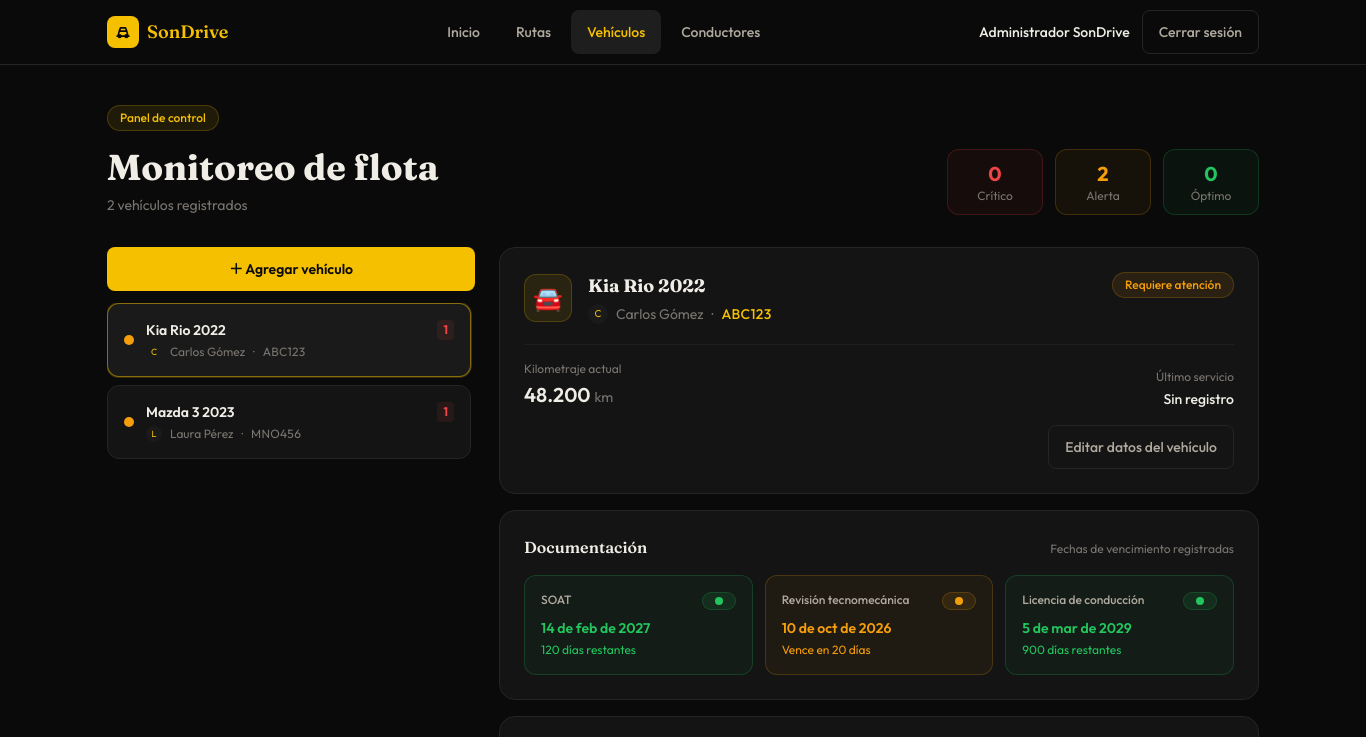
Test: PaginaVehiculos › edición de los datos del vehículo › mantiene seleccionado el vehículo editado aunque cambie de lugar en la lista
The image size is (1366, 737).
Click the button with aria-label "Editar datos del vehículo Kia Rio 2022 ABC123" at (1141, 447), box top-left (1048, 425), bottom-right (1234, 469)
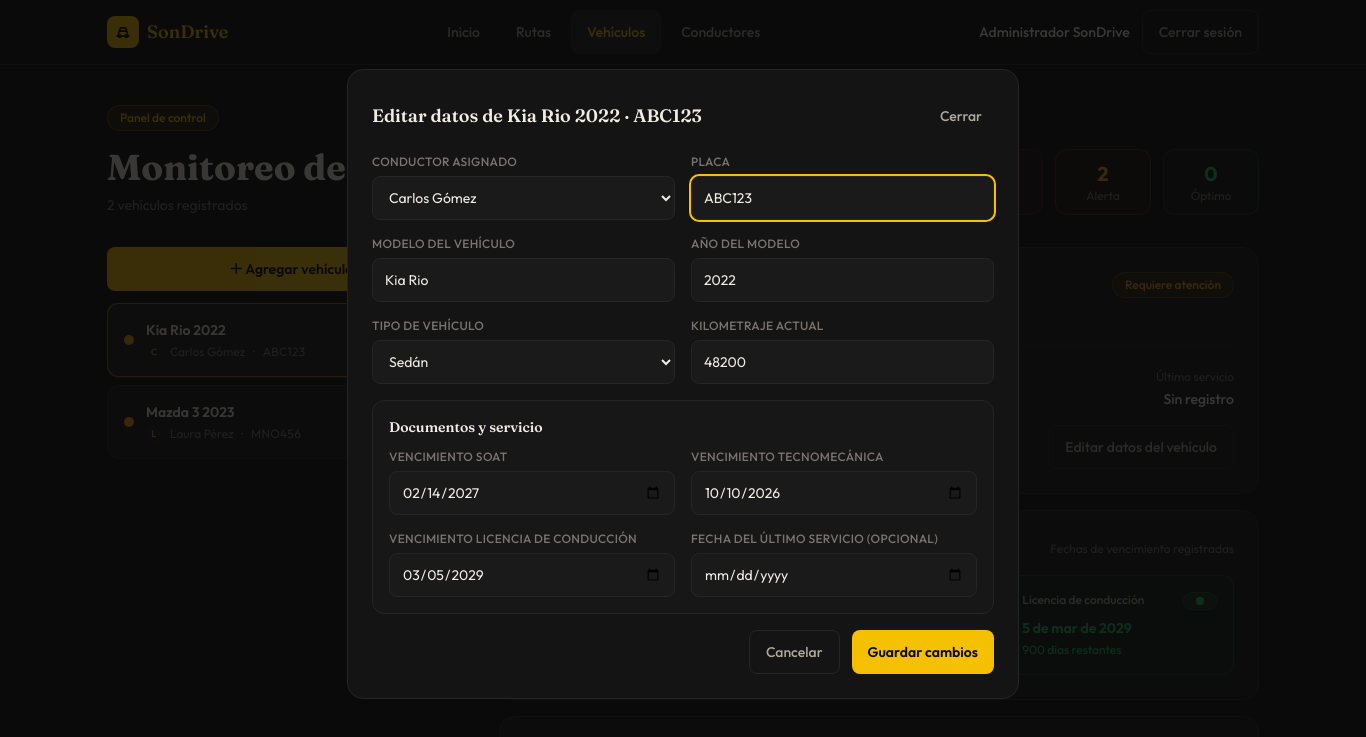
Check: the button "Guardar cambios" is enabled, box top-left (852, 630), bottom-right (994, 674)
Replace the text in the field labelled "Placa" with "ZZZ999" at (842, 198), box top-left (691, 176), bottom-right (994, 220)
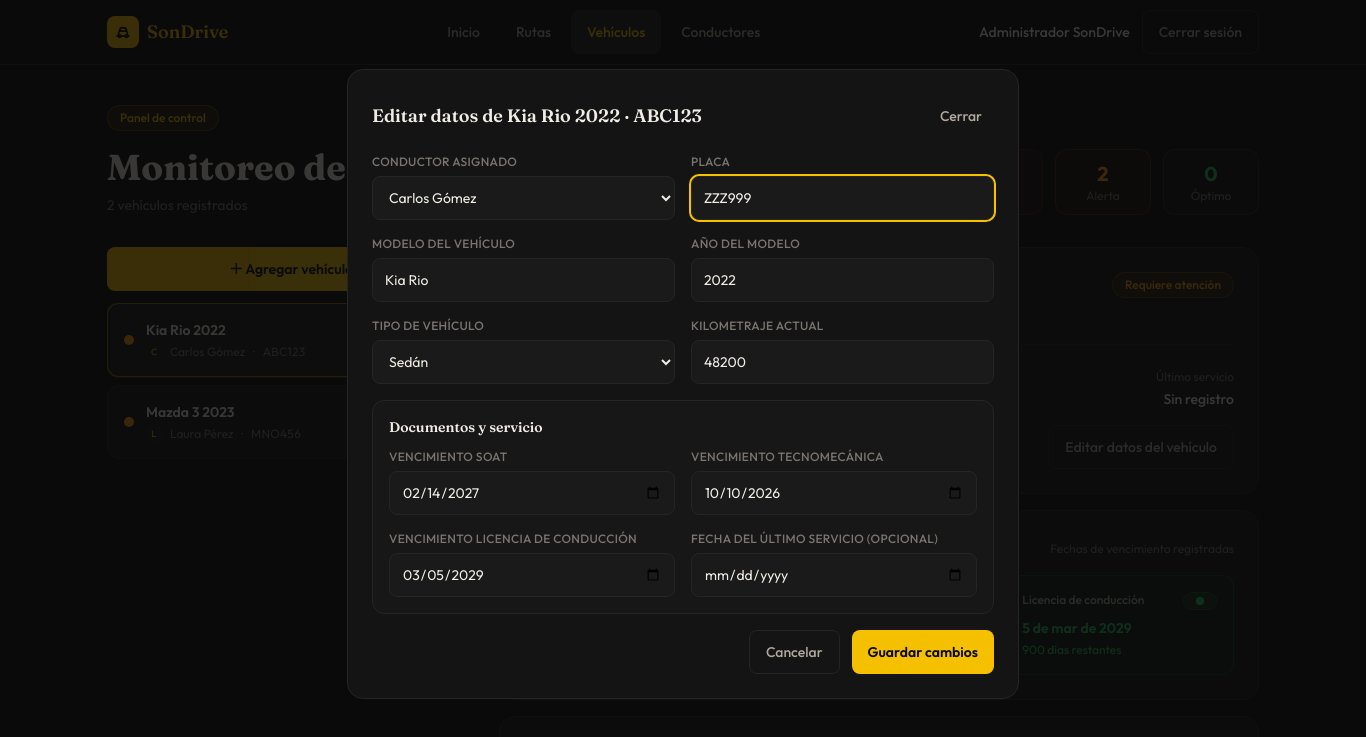
Click the button "Guardar cambios" at (923, 652), box top-left (852, 630), bottom-right (994, 674)
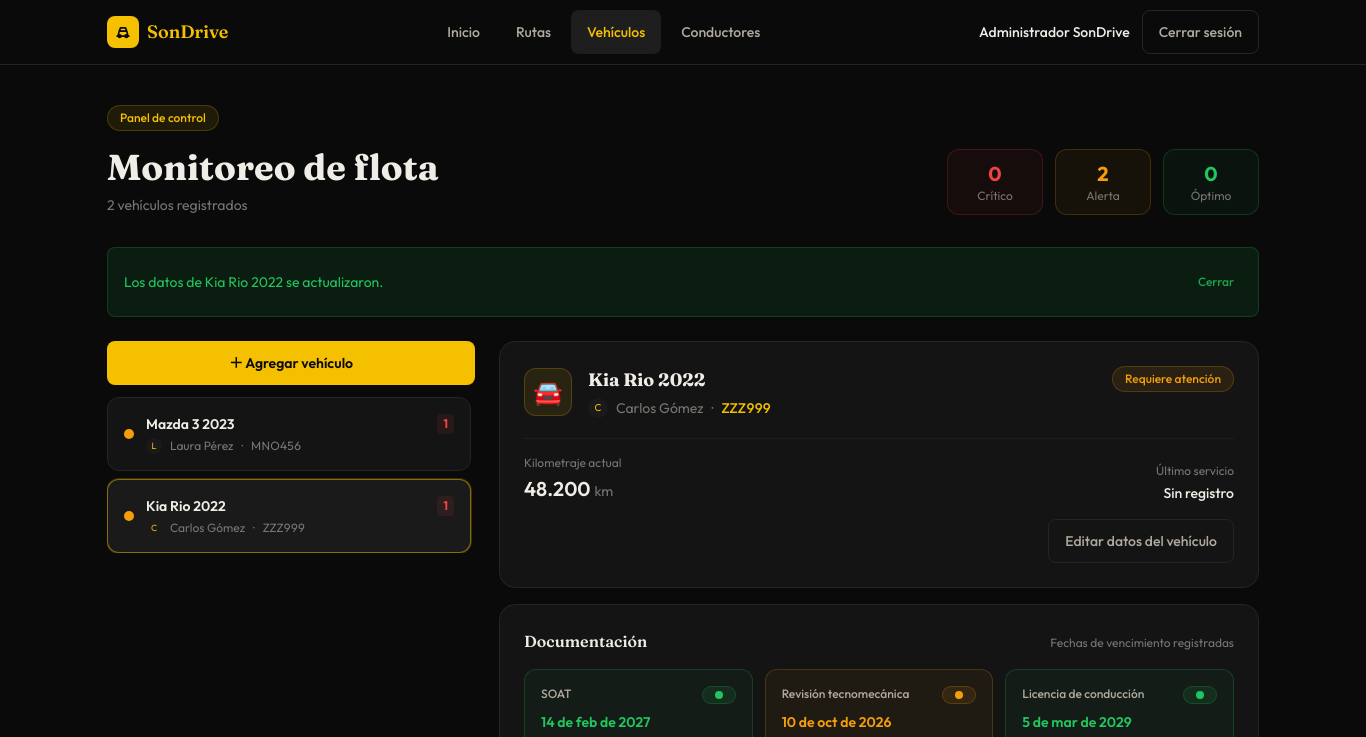
Check: the heading "Kia Rio 2022" is shown, box top-left (588, 368), bottom-right (705, 391)
Check: the text "Los datos de Kia Rio 2022 se actualizaron." is shown, box top-left (124, 272), bottom-right (383, 292)
Check: the 1st text "ZZZ999" is shown, box top-left (721, 398), bottom-right (771, 418)
